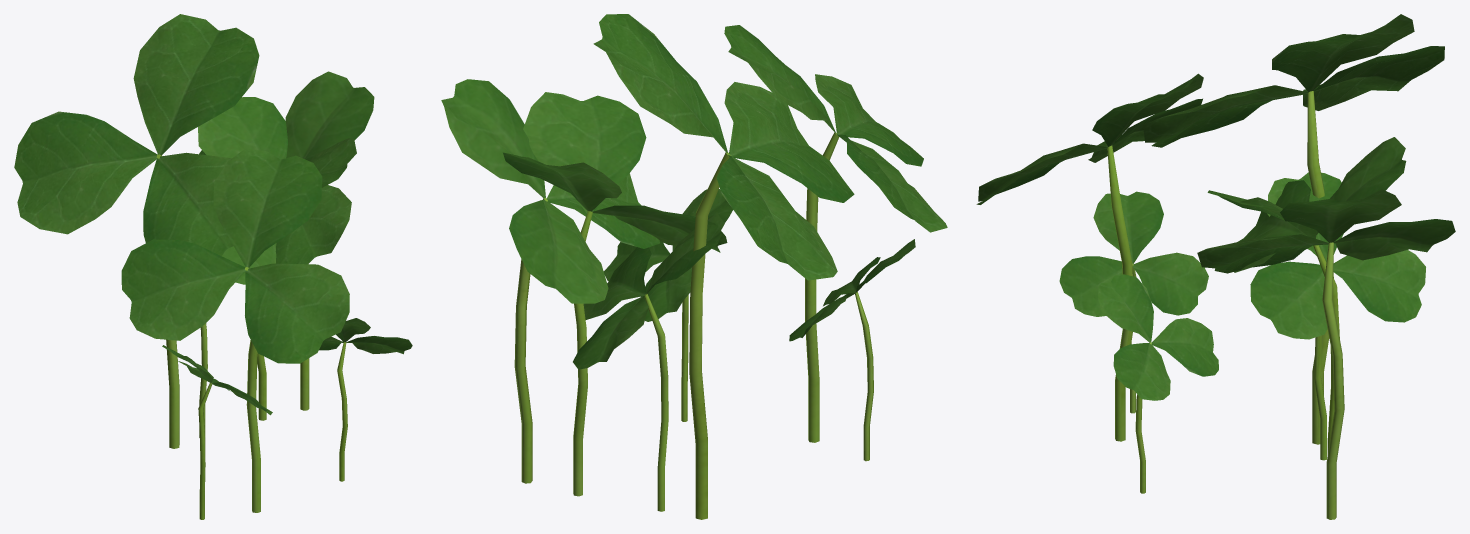
Rendered from grassclovers.fbx.
The picture shows the model from 3 angles, left to right: view 1: azimuth 30°, elevation 25°; view 2: azimuth 150°, elevation 25°; view 3: azimuth 270°, elevation 25°; orthographic projection. The views are drawn at different scales.
Visible parts, largest first — view 1: trunks; view 2: trunks; view 3: trunks.
Boxes of the visible parts, <box> form: trunks: <box>14,14,412,519</box>; trunks: <box>441,14,947,519</box>; trunks: <box>976,14,1455,519</box>.
Bounding box in the file's own units: 38.31 × 44.4 × 42.75.
2 materials, 2 textured.
